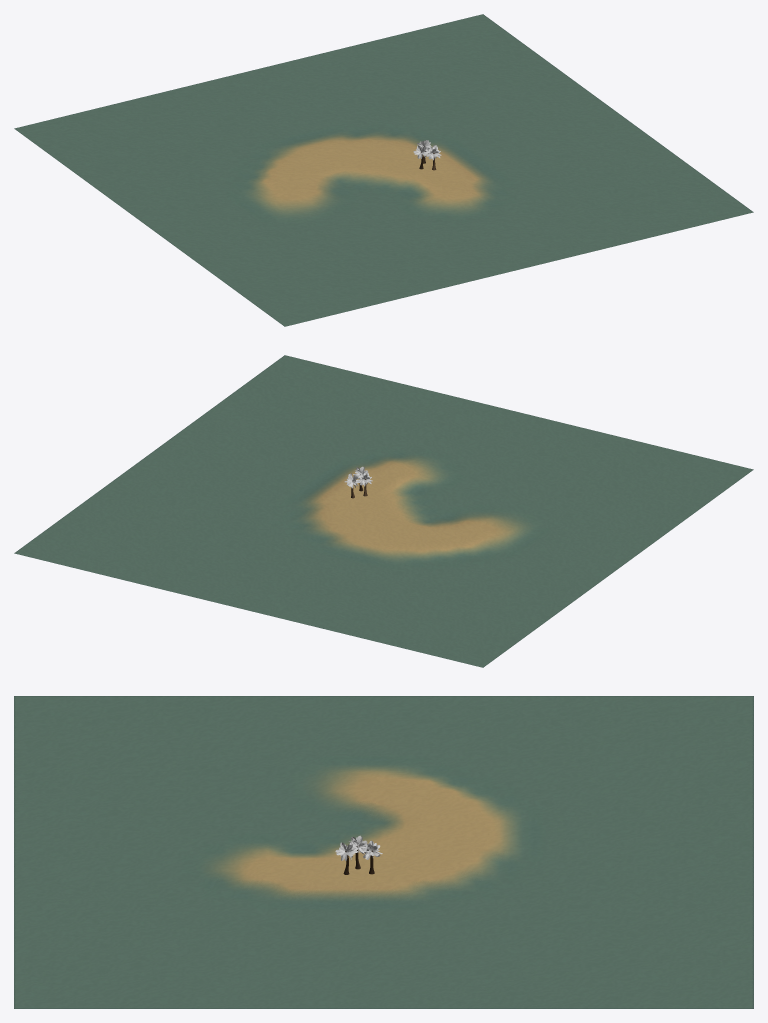
The model's file is island.dae.
The picture shows the model from 3 angles, top to bottom: view 1: azimuth 30°, elevation 25°; view 2: azimuth 150°, elevation 25°; view 3: azimuth 270°, elevation 25°; orthographic projection. The views are drawn at different scales.
Visible parts, largest first — view 1: Plane; view 2: Plane; view 3: Plane.
Part boxes in pixels (x1,y1,x2,y2): Plane: [14, 14, 753, 326]; Plane: [14, 355, 753, 667]; Plane: [14, 696, 753, 1008].
Bounding box in the file's own units: 128 × 128 × 6.6.
